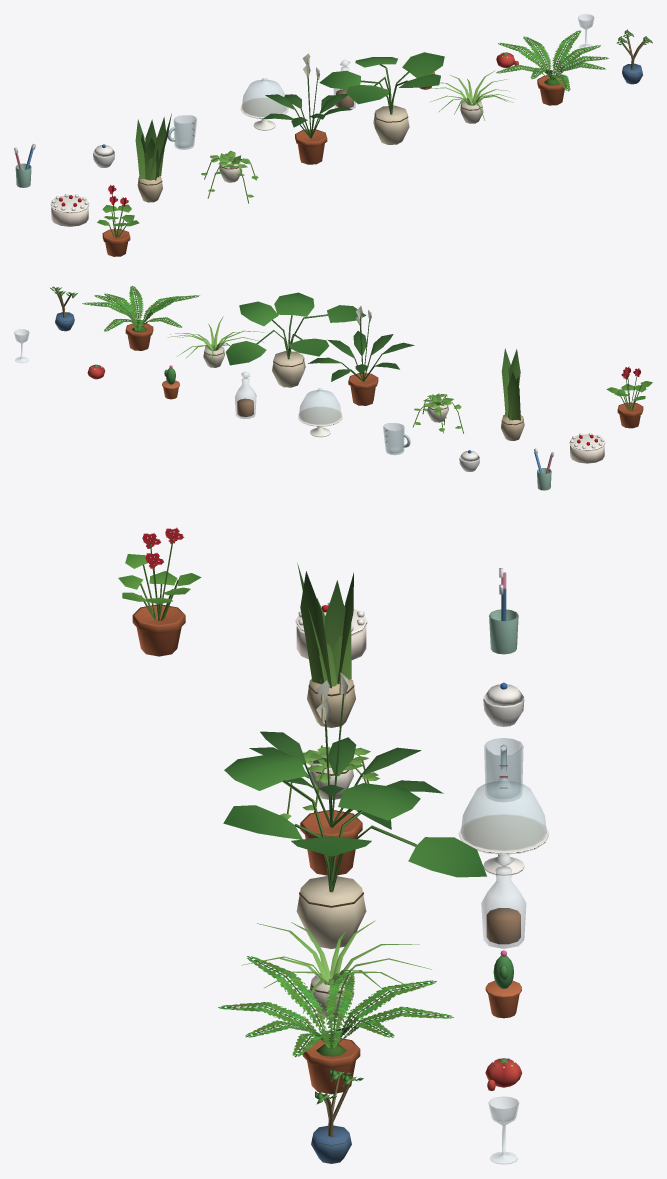
The model's file is knockables_plants.glb.
3 views of the same model, one above another, from view 1: azimuth 30°, elevation 25°; view 2: azimuth 150°, elevation 25°; view 3: azimuth 270°, elevation 25° (orthographic). The views are drawn at different scales.
Visible parts, largest first — view 1: monstera__plant, boston_fern__plant_cards, peace_lily__plant, snake_plant__plant, cake_stand__dome, monstera, cake, cake_stand, peace_lily, spider_plant__plant, measuring_jug__glass, pothos__plant (+6 smaller); view 2: monstera__plant, boston_fern__plant_cards, peace_lily__plant, cake_stand__dome, snake_plant__plant, monstera, cake, cake_stand, peace_lily, crystal_decanter__glass, measuring_jug__glass, spider_plant__plant (+7 smaller); view 3: monstera__plant, boston_fern__plant_cards, cake_stand__dome, peace_lily__plant, snake_plant__plant, monstera, cake_stand, crystal_decanter__glass, measuring_jug__glass, spider_plant__plant, geranium_pot__plant, geranium_pot (+11 smaller).
Part boxes in pixels (x1=…): monstera__plant: x1=319, y1=52, x2=444, y2=114; boston_fern__plant_cards: x1=496, y1=30, x2=608, y2=91; peace_lily__plant: x1=263, y1=53, x2=352, y2=138; snake_plant__plant: x1=135, y1=113, x2=171, y2=180; cake_stand__dome: x1=241, y1=78, x2=287, y2=116; monstera: x1=373, y1=105, x2=409, y2=144; cake: x1=50, y1=194, x2=89, y2=226; cake_stand: x1=240, y1=97, x2=288, y2=130; peace_lily: x1=295, y1=129, x2=327, y2=164; spider_plant__plant: x1=425, y1=70, x2=514, y2=120; measuring_jug__glass: x1=173, y1=115, x2=196, y2=149; pothos__plant: x1=201, y1=150, x2=258, y2=203; monstera__plant: x1=225, y1=292, x2=366, y2=365; boston_fern__plant_cards: x1=82, y1=286, x2=199, y2=331; peace_lily__plant: x1=308, y1=306, x2=414, y2=381; cake_stand__dome: x1=299, y1=388, x2=341, y2=424; snake_plant__plant: x1=501, y1=348, x2=520, y2=420; monstera: x1=272, y1=351, x2=305, y2=387; cake: x1=569, y1=433, x2=605, y2=463; cake_stand: x1=298, y1=406, x2=342, y2=437; peace_lily: x1=348, y1=373, x2=378, y2=405; crystal_decanter__glass: x1=235, y1=378, x2=256, y2=418; measuring_jug__glass: x1=383, y1=423, x2=404, y2=455; spider_plant__plant: x1=168, y1=316, x2=267, y2=361; monstera__plant: x1=223, y1=753, x2=486, y2=892; boston_fern__plant_cards: x1=218, y1=956, x2=453, y2=1057; cake_stand__dome: x1=461, y1=778, x2=546, y2=850; peace_lily__plant: x1=249, y1=672, x2=443, y2=829; snake_plant__plant: x1=297, y1=563, x2=353, y2=688; monstera: x1=296, y1=876, x2=366, y2=948; cake_stand: x1=458, y1=814, x2=548, y2=875; crystal_decanter__glass: x1=481, y1=866, x2=526, y2=948; measuring_jug__glass: x1=484, y1=738, x2=523, y2=801; spider_plant__plant: x1=241, y1=920, x2=431, y2=1013; geranium_pot__plant: x1=118, y1=537, x2=201, y2=620; geranium_pot: x1=132, y1=604, x2=185, y2=656.
Size of the model in its own units: 3.12 by 0.6065 by 1.05.
Materials: 5 (2 with a texture image).
